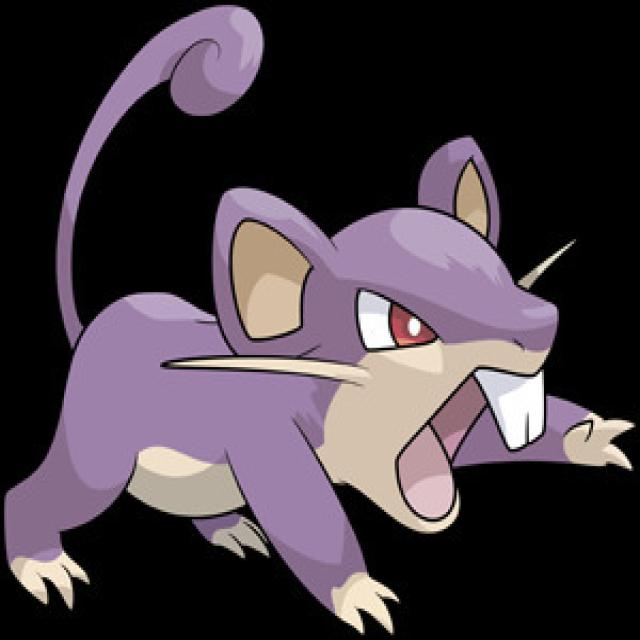Rattata: (48, 179, 597, 560)
